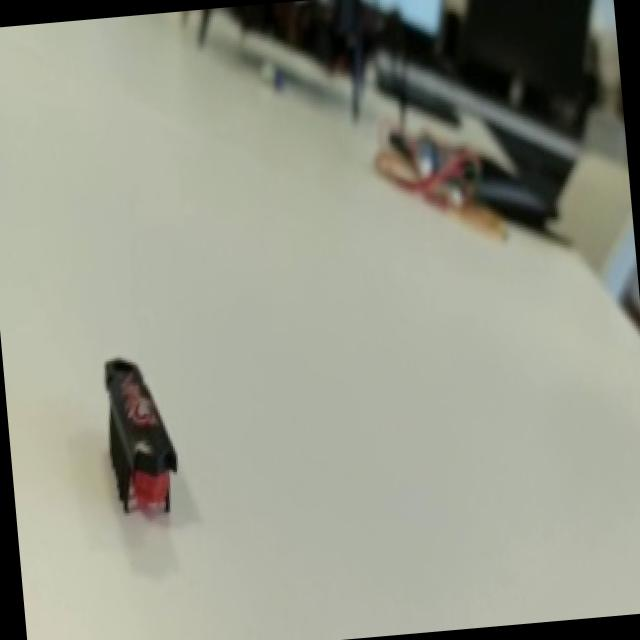2_NanoBug_Negro: (73, 324, 211, 566)
